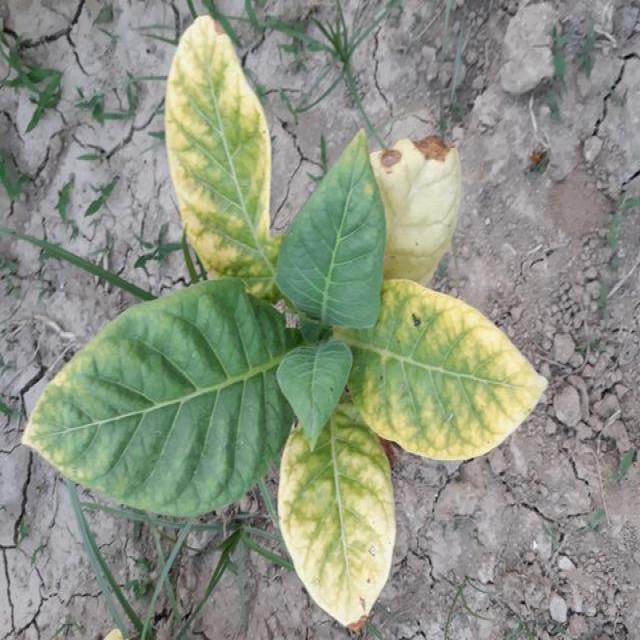crop: (18, 5, 557, 640)
